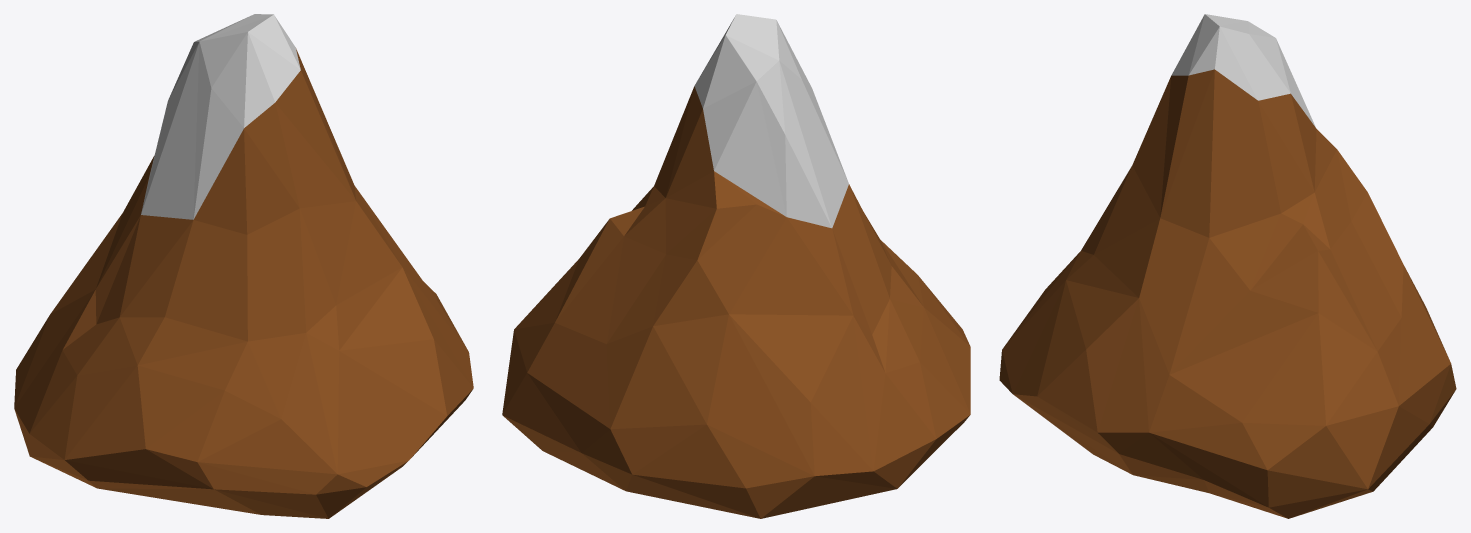
The model's file is Mountain.fbx.
3 views of the same model, side by side, from view 1: azimuth 30°, elevation 25°; view 2: azimuth 150°, elevation 25°; view 3: azimuth 270°, elevation 25° (orthographic). The views are drawn at different scales.
Parts seen in each view (by area): view 1: Mountain; view 2: Mountain; view 3: Mountain.
Part boxes in pixels (left/top/right/bottom): Mountain: left=14, top=14, right=473, bottom=518; Mountain: left=502, top=14, right=970, bottom=518; Mountain: left=999, top=14, right=1456, bottom=518.
Size of the model in its own units: 7247 by 7104 by 7086.
Materials: 1 (1 with a texture image).
